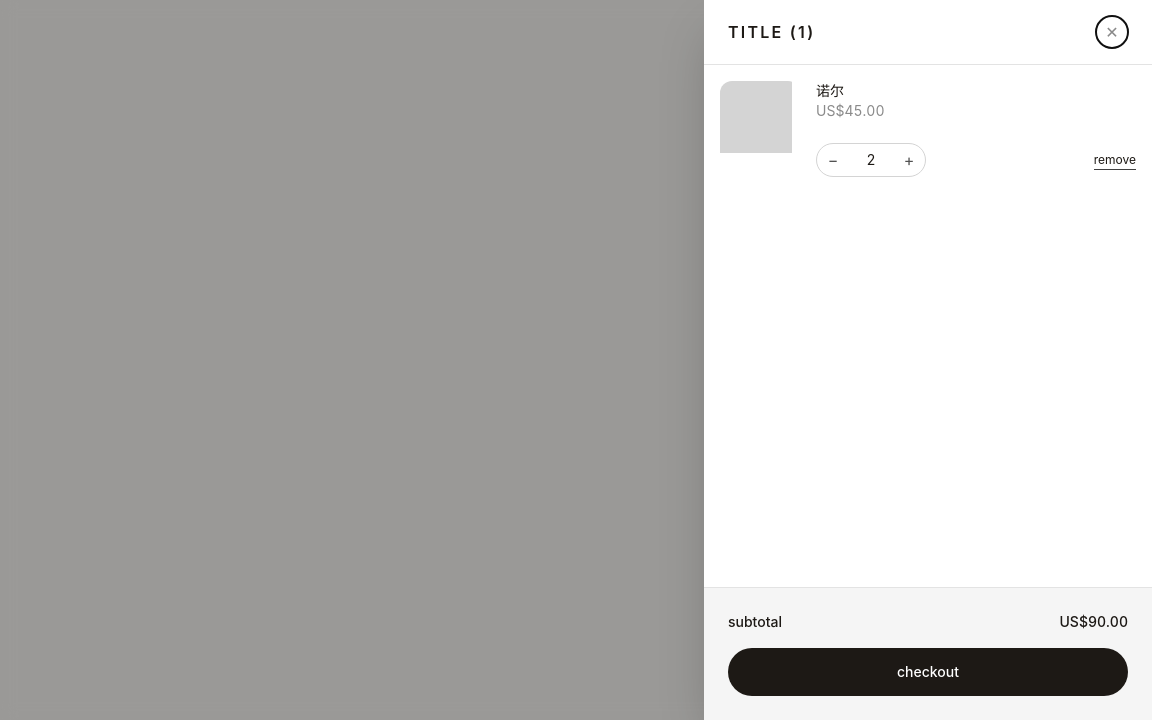
CartDrawer · Checkout 直达 Shopify(不再先进 /checkout) › 售罄被 400 拦下时:点名商品、留在原地可重试,且全站不渲染裸错误码 (P0-3 / B3)
The image size is (1152, 720).
Click the button "checkout": (928, 672) x1=728 y1=648 x2=1128 y2=696
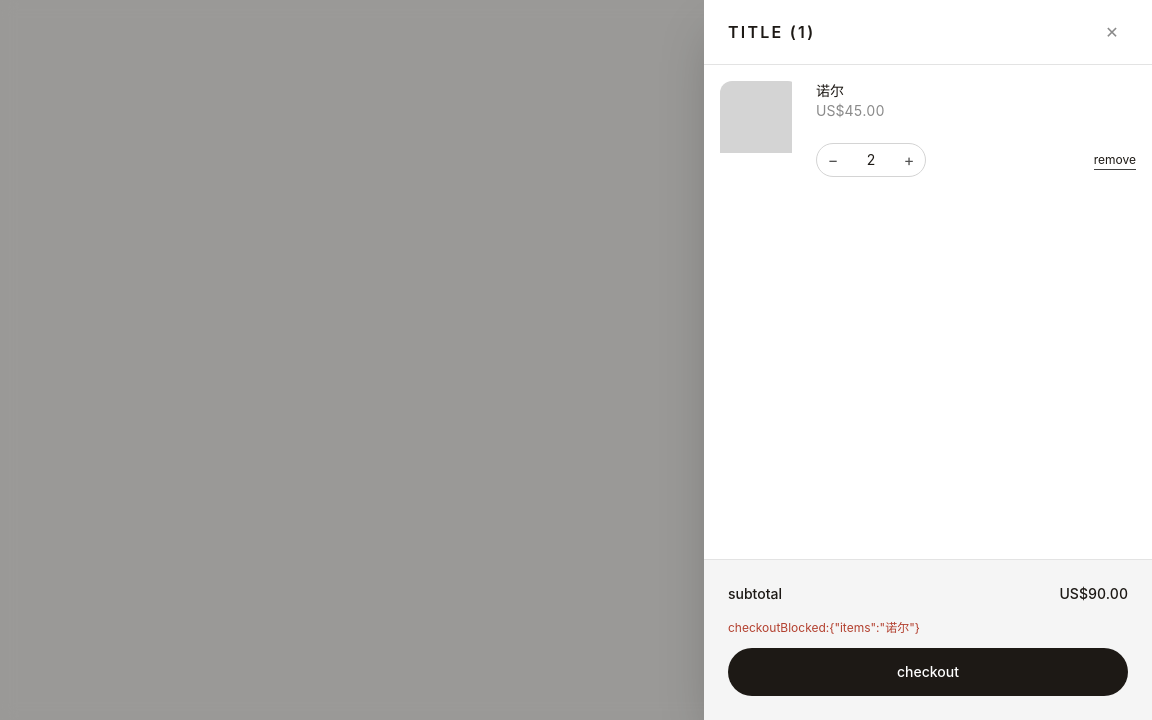
Expected: the message shows "checkoutBlocked", x1=728 y1=620 x2=920 y2=635
Expected: the message shows "诺尔", x1=728 y1=620 x2=920 y2=635
